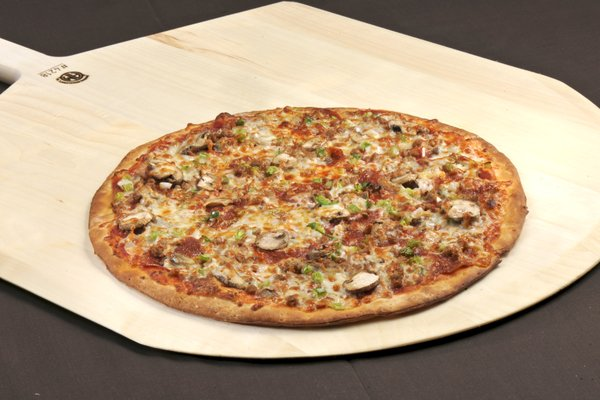curry: (1, 1, 593, 389)
sandwich: (88, 105, 523, 325)
